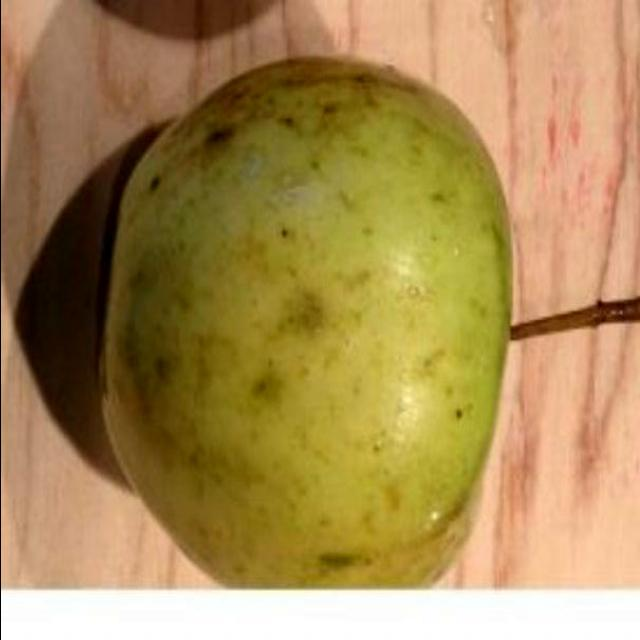BLOTCH: (77, 37, 520, 611)
